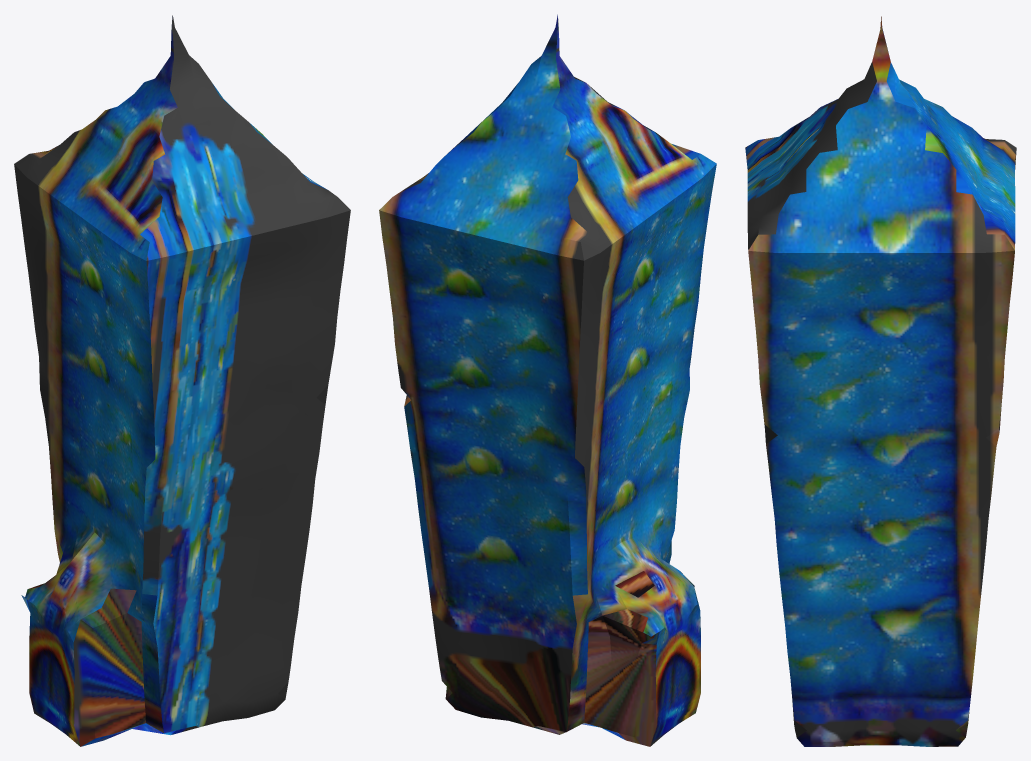
Rendered from trader2.fbx.
3 renders of one model, left to right at view 1: azimuth 30°, elevation 25°; view 2: azimuth 150°, elevation 25°; view 3: azimuth 270°, elevation 25°, orthographic. The views are drawn at different scales.
Parts seen in each view (by area): view 1: lp; view 2: lp; view 3: lp.
Part boxes in pixels (bbox=[...]): lp: bbox=[14, 15, 350, 746]; lp: bbox=[379, 14, 716, 746]; lp: bbox=[745, 16, 1016, 746].
Bounding box in the file's own units: 61.49 × 170 × 59.22.
Materials: 1 (1 with a texture image).
